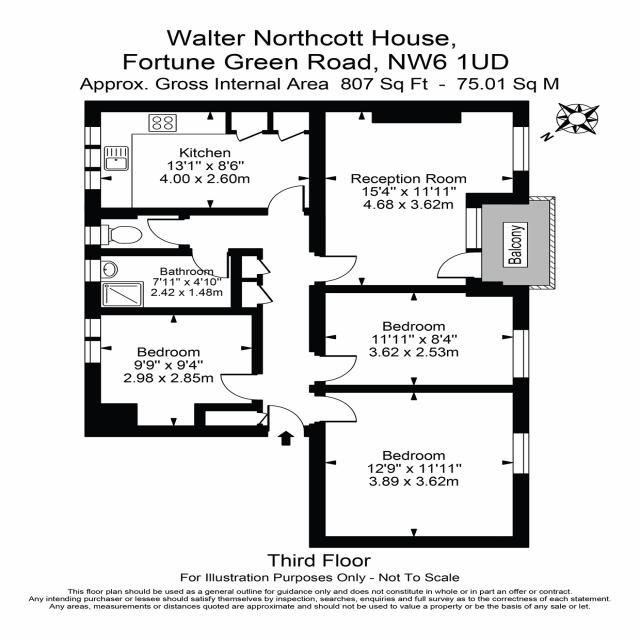DOOR: (309, 251, 358, 287), (309, 351, 358, 386), (308, 392, 358, 426), (265, 404, 306, 437), (436, 251, 482, 279), (266, 184, 306, 216), (190, 248, 230, 279), (219, 373, 263, 401), (146, 218, 190, 245)
ROOM: (308, 100, 530, 297), (309, 384, 530, 548), (84, 100, 326, 220), (308, 281, 530, 393), (84, 307, 263, 438)
WINDOW: (512, 329, 530, 378), (511, 126, 530, 172), (465, 207, 483, 250), (512, 433, 530, 474), (84, 341, 102, 363), (84, 259, 101, 282), (84, 126, 102, 146), (84, 148, 102, 168), (84, 171, 102, 190), (84, 319, 102, 337), (84, 226, 101, 245)
